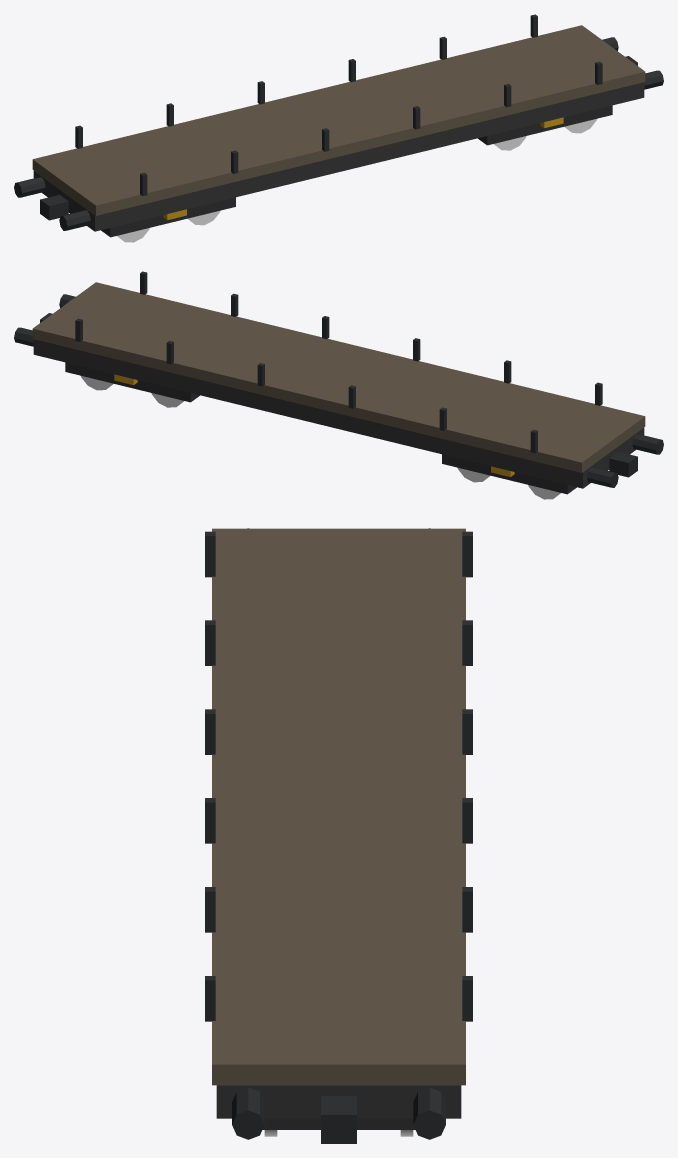
Rendered from flatcar.glb.
3 views of the same model, one above another, from view 1: azimuth 30°, elevation 25°; view 2: azimuth 150°, elevation 25°; view 3: azimuth 270°, elevation 25° (orthographic). The views are drawn at different scales.
Parts seen in each view (by area): view 1: Piece_lod0; view 2: Piece_lod0; view 3: Piece_lod0.
Boxes of the visible parts, x1,y1,x2,y2 form: Piece_lod0: (14, 14, 663, 242); Piece_lod0: (14, 271, 663, 499); Piece_lod0: (205, 528, 472, 1143).
Size of what is drawn, in the model's own units: 15.2 by 1.93 by 2.96.
